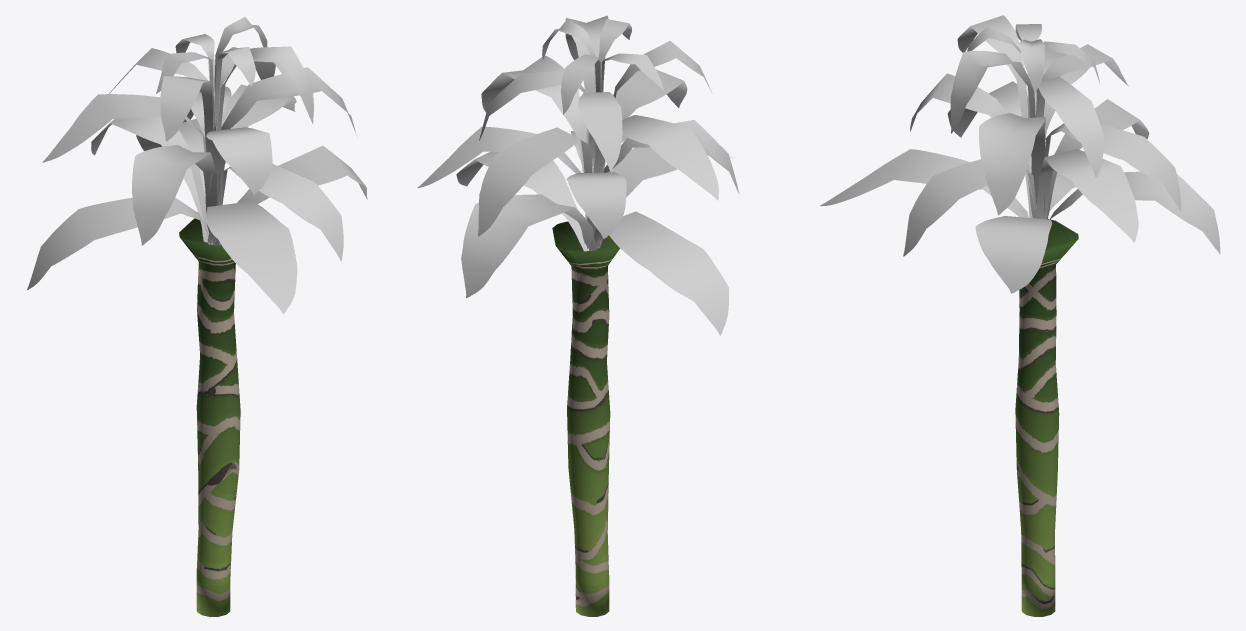
The model's file is Plantula_Large.fbx.
The picture shows the model from 3 angles, left to right: view 1: azimuth 30°, elevation 25°; view 2: azimuth 150°, elevation 25°; view 3: azimuth 270°, elevation 25°; orthographic projection.
Parts seen in each view (by area): view 1: Plane.029; view 2: Plane.029; view 3: Plane.029.
Part boxes in pixels (left/top/right/bottom): Plane.029: left=27, top=17, right=367, bottom=616; Plane.029: left=417, top=15, right=739, bottom=616; Plane.029: left=820, top=15, right=1220, bottom=616.
Bounding box in the file's own units: 98.67 × 171 × 113.
